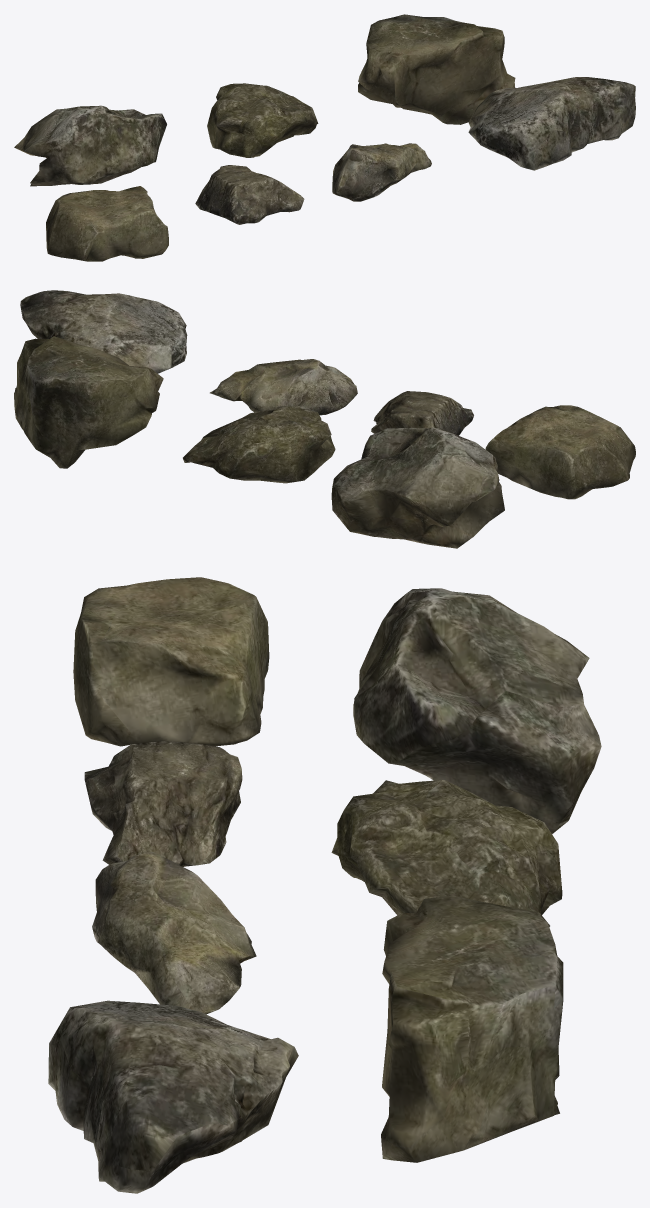
Rendered from rockset2.glb.
3 views of the same model, one above another, from view 1: azimuth 30°, elevation 25°; view 2: azimuth 150°, elevation 25°; view 3: azimuth 270°, elevation 25° (orthographic). The views are drawn at different scales.
Parts seen in each view (by area): view 1: rock_moss_set_02_rock13, rock_moss_set_02_rock10, rock_moss_set_02_rock11, rock_moss_set_02_rock07, rock_moss_set_02_rock12, rock_moss_set_02_rock08, rock_moss_set_02_rock09; view 2: rock_moss_set_02_rock11, rock_moss_set_02_rock13, rock_moss_set_02_rock07, rock_moss_set_02_rock10, rock_moss_set_02_rock12, rock_moss_set_02_rock09, rock_moss_set_02_rock08; view 3: rock_moss_set_02_rock11, rock_moss_set_02_rock13, rock_moss_set_02_rock10, rock_moss_set_02_rock07, rock_moss_set_02_rock12, rock_moss_set_02_rock09, rock_moss_set_02_rock08.
Boxes of the visible parts, bbox=[...] form: rock_moss_set_02_rock13: bbox=[358, 14, 515, 124]; rock_moss_set_02_rock10: bbox=[468, 77, 635, 170]; rock_moss_set_02_rock11: bbox=[14, 105, 166, 186]; rock_moss_set_02_rock07: bbox=[46, 186, 168, 261]; rock_moss_set_02_rock12: bbox=[207, 83, 318, 157]; rock_moss_set_02_rock08: bbox=[195, 165, 304, 224]; rock_moss_set_02_rock09: bbox=[332, 143, 431, 201]; rock_moss_set_02_rock11: bbox=[331, 427, 504, 548]; rock_moss_set_02_rock13: bbox=[14, 336, 163, 468]; rock_moss_set_02_rock07: bbox=[485, 405, 635, 499]; rock_moss_set_02_rock10: bbox=[20, 290, 187, 373]; rock_moss_set_02_rock12: bbox=[183, 406, 335, 483]; rock_moss_set_02_rock09: bbox=[210, 359, 357, 415]; rock_moss_set_02_rock08: bbox=[371, 391, 473, 435]; rock_moss_set_02_rock11: bbox=[353, 588, 601, 833]; rock_moss_set_02_rock13: bbox=[381, 895, 563, 1162]; rock_moss_set_02_rock10: bbox=[48, 1000, 298, 1193]; rock_moss_set_02_rock07: bbox=[73, 577, 269, 746]; rock_moss_set_02_rock12: bbox=[331, 780, 562, 926]; rock_moss_set_02_rock09: bbox=[92, 852, 256, 1014]; rock_moss_set_02_rock08: bbox=[84, 741, 242, 866].
Bounding box in the file's own units: 8.28 × 1.35 × 3.4.
Materials: 1 (1 with a texture image).
